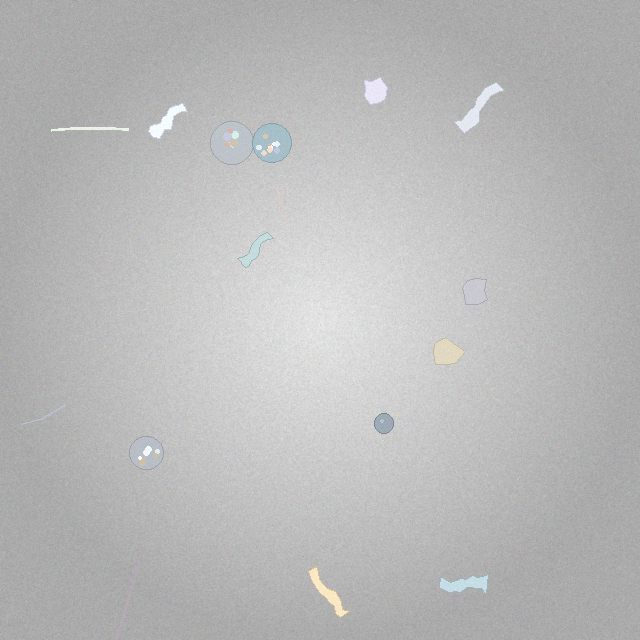fiber: (113, 552, 144, 639), (20, 402, 67, 427), (48, 125, 132, 134), (274, 185, 289, 223)
film: (453, 82, 504, 133), (309, 566, 350, 618), (148, 104, 188, 138), (237, 232, 273, 267), (440, 575, 488, 595)
foam: (210, 121, 254, 165), (252, 123, 292, 163), (130, 436, 163, 469)
fragment: (433, 338, 466, 365), (462, 279, 487, 305), (364, 77, 388, 104)
pellet: (374, 414, 394, 433)
